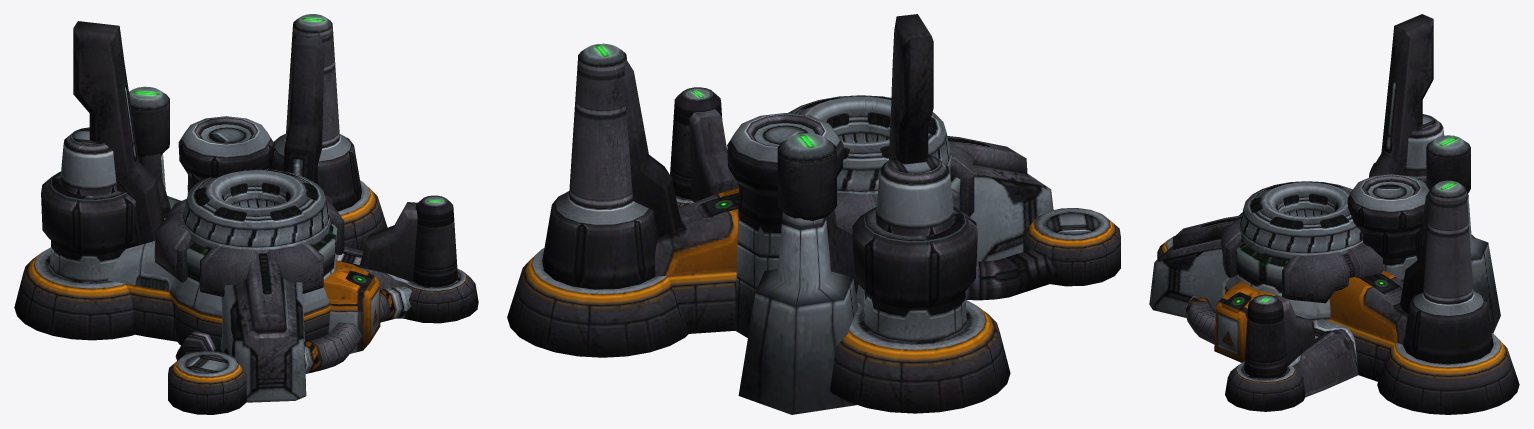
The model's file is ArmoryEx1.glb.
3 views of the same model, side by side, from view 1: azimuth 30°, elevation 25°; view 2: azimuth 150°, elevation 25°; view 3: azimuth 270°, elevation 25° (orthographic). The views are drawn at different scales.
Visible parts, largest first — view 1: Mesh; view 2: Mesh; view 3: Mesh.
Boxes of the visible parts, x1,y1,x2,y2 form: Mesh: (14, 14, 478, 414); Mesh: (507, 14, 1120, 414); Mesh: (1149, 14, 1519, 414).
Size of the model in its own units: 3.09 by 2.34 by 2.9.
Materials: 1 (1 with a texture image).
